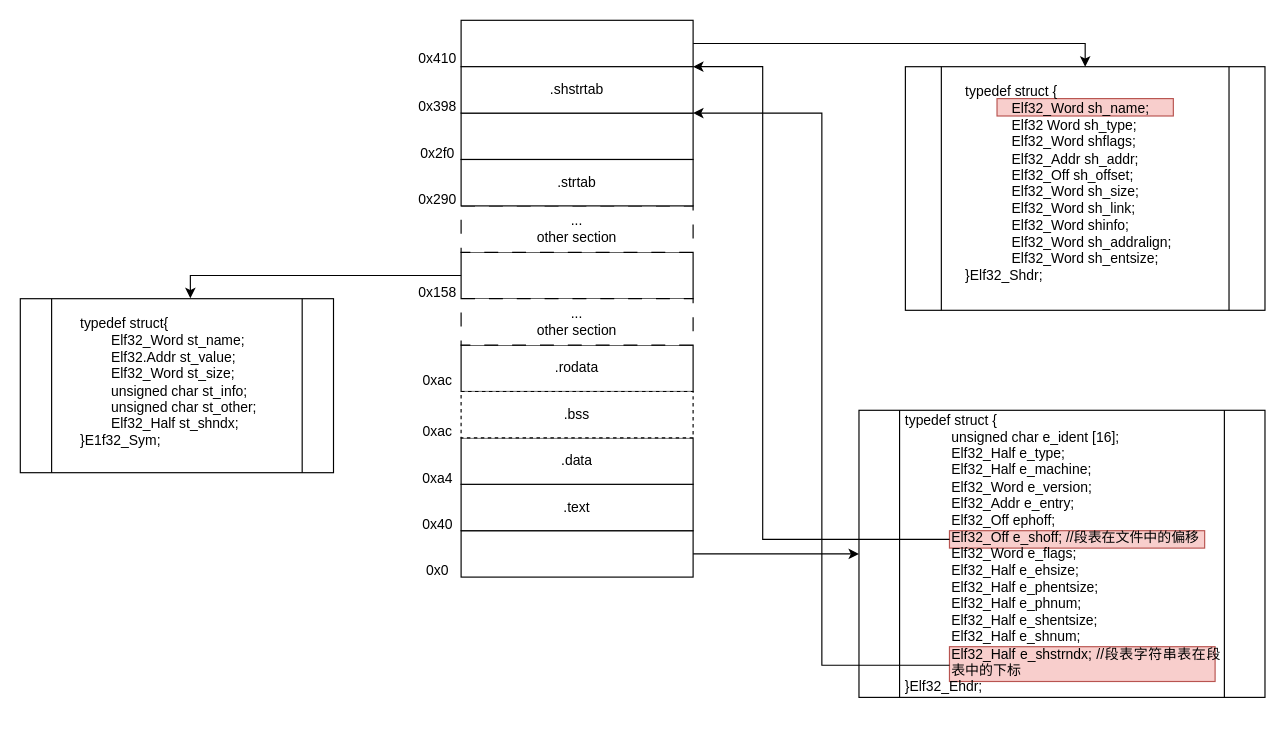
The diagram is 1285 pixels wide and 730 high, and some of its shapes have lost their labels. Here are the shapes that lost their labels. From the top down, the centre of each, then its label:
At point 576,43: "Section Table".
At point 576,136: ".rela.text".
At point 576,275: ".symtab".
At point 576,553: "ELF Header".
